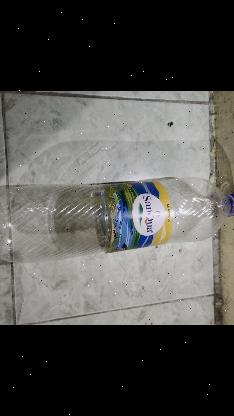Plastic Bottle: (0, 176, 234, 265)
